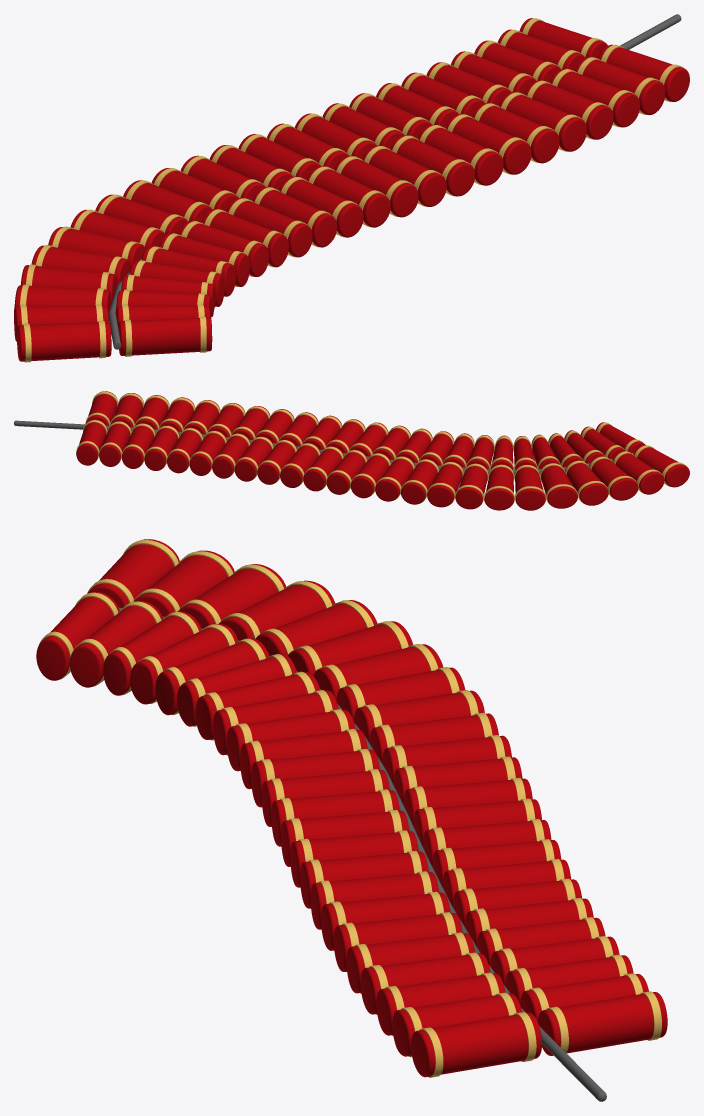
File: ladi.glb
3 views of the same model, one above another, from view 1: azimuth 30°, elevation 25°; view 2: azimuth 150°, elevation 25°; view 3: azimuth 270°, elevation 25° (orthographic). The views are drawn at different scales.
Visible parts, largest first — view 1: Cylinder.029, Cylinder.027, BézierCurve.003; view 2: Cylinder.029, Cylinder.027, BézierCurve.003; view 3: Cylinder.029, Cylinder.027, BézierCurve.003.
Boxes of the visible parts, x1,y1,x2,y2 form: Cylinder.029: (14, 18, 689, 361); Cylinder.027: (19, 18, 683, 362); BézierCurve.003: (108, 14, 681, 349); Cylinder.029: (76, 391, 689, 510); Cylinder.027: (76, 391, 686, 505); BézierCurve.003: (14, 420, 633, 474); Cylinder.029: (36, 539, 667, 1077); Cylinder.027: (39, 540, 661, 1077); BézierCurve.003: (118, 607, 606, 1101).
Bounding box in the file's own units: 1.78 × 0.0681 × 0.8708.
